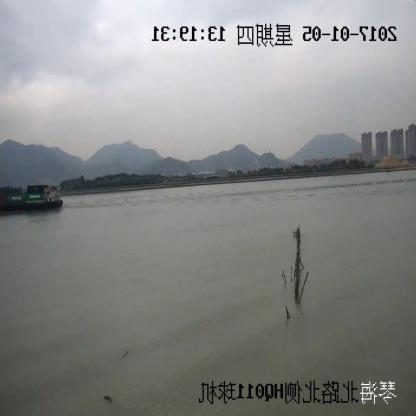Container Ship: (0, 186, 64, 211)
